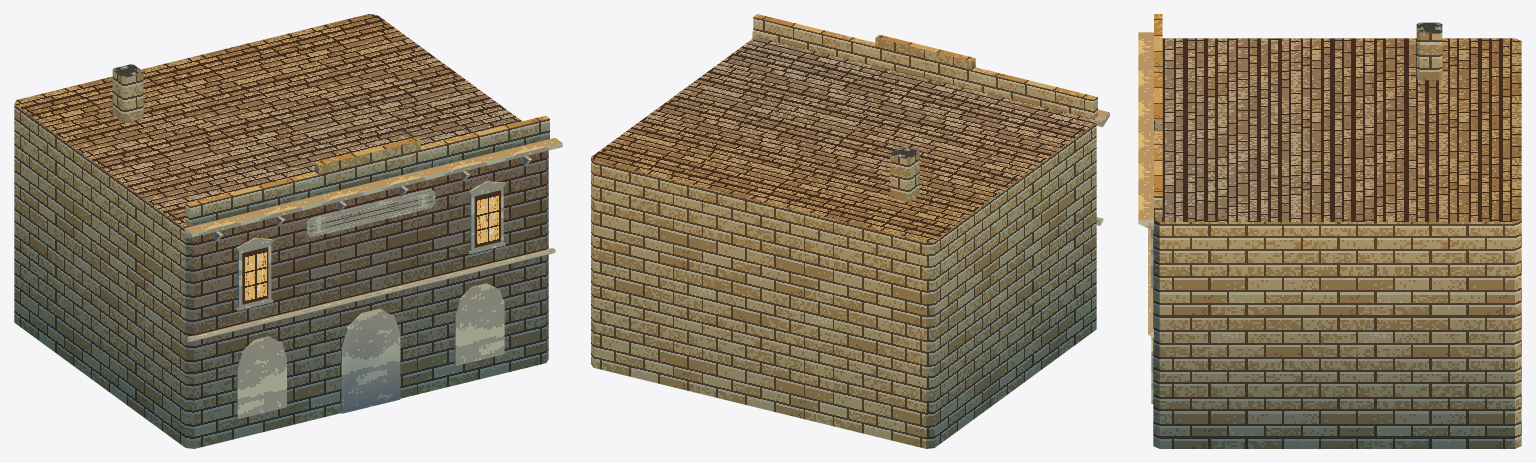
Rendered from wtown.bank__wide.glb.
The picture shows the model from 3 angles, left to right: view 1: azimuth 30°, elevation 25°; view 2: azimuth 150°, elevation 25°; view 3: azimuth 270°, elevation 25°; orthographic projection. The views are drawn at different scales.
Visible parts, largest first — view 1: kit_body, kit_trim, kit_windows, kit_card_panes, kit_chimney; view 2: kit_body, kit_trim, kit_chimney; view 3: kit_body, kit_trim, kit_chimney, kit_windows.
Part boxes in pixels (bbox=[...]): kit_body: bbox=[14, 14, 548, 448]; kit_trim: bbox=[184, 115, 562, 413]; kit_windows: bbox=[236, 181, 505, 419]; kit_card_panes: bbox=[242, 190, 500, 304]; kit_chimney: bbox=[112, 64, 143, 122]; kit_body: bbox=[591, 37, 1096, 448]; kit_trim: bbox=[752, 14, 1109, 225]; kit_chimney: bbox=[890, 146, 919, 201]; kit_body: bbox=[1153, 38, 1521, 448]; kit_trim: bbox=[1138, 14, 1162, 337]; kit_chimney: bbox=[1416, 22, 1442, 80]; kit_windows: bbox=[1151, 229, 1153, 403].
Size of the model in its own units: 12.04 by 8.2 by 10.4.
7 materials, 7 textured.
